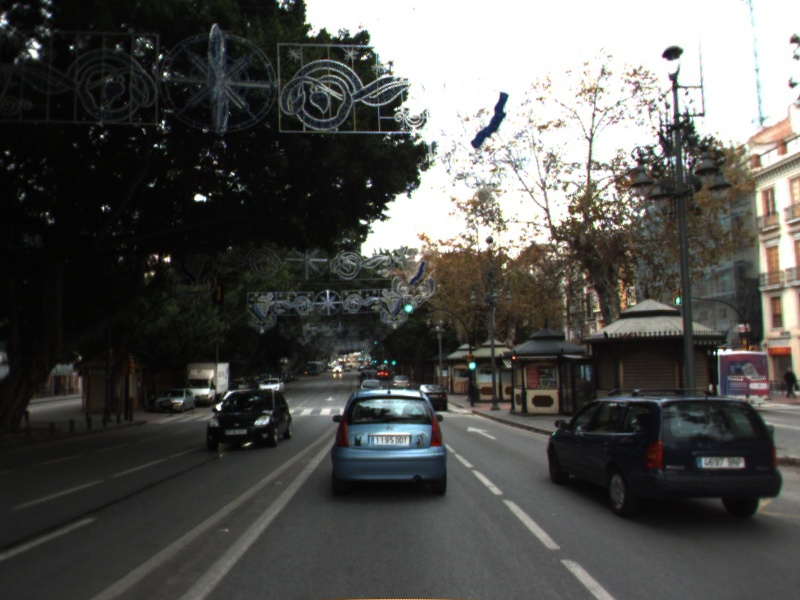STRAIGHT: (465, 424, 499, 442)
